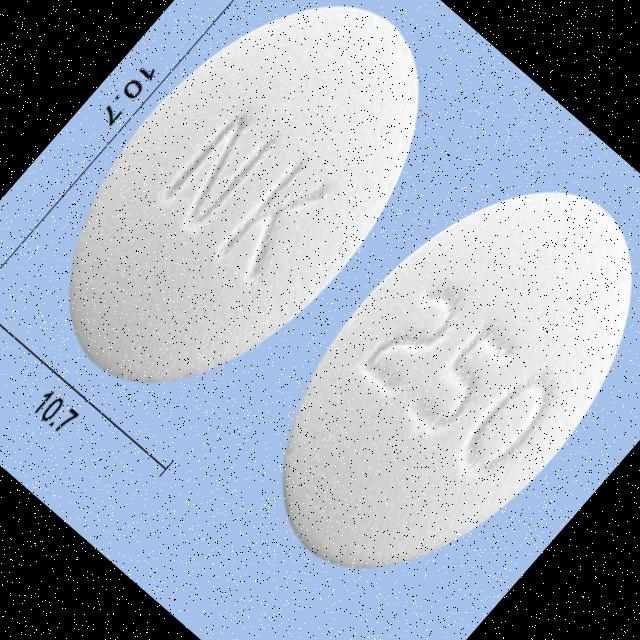Ciproc: (208, 121, 640, 640), (0, 0, 490, 453)
